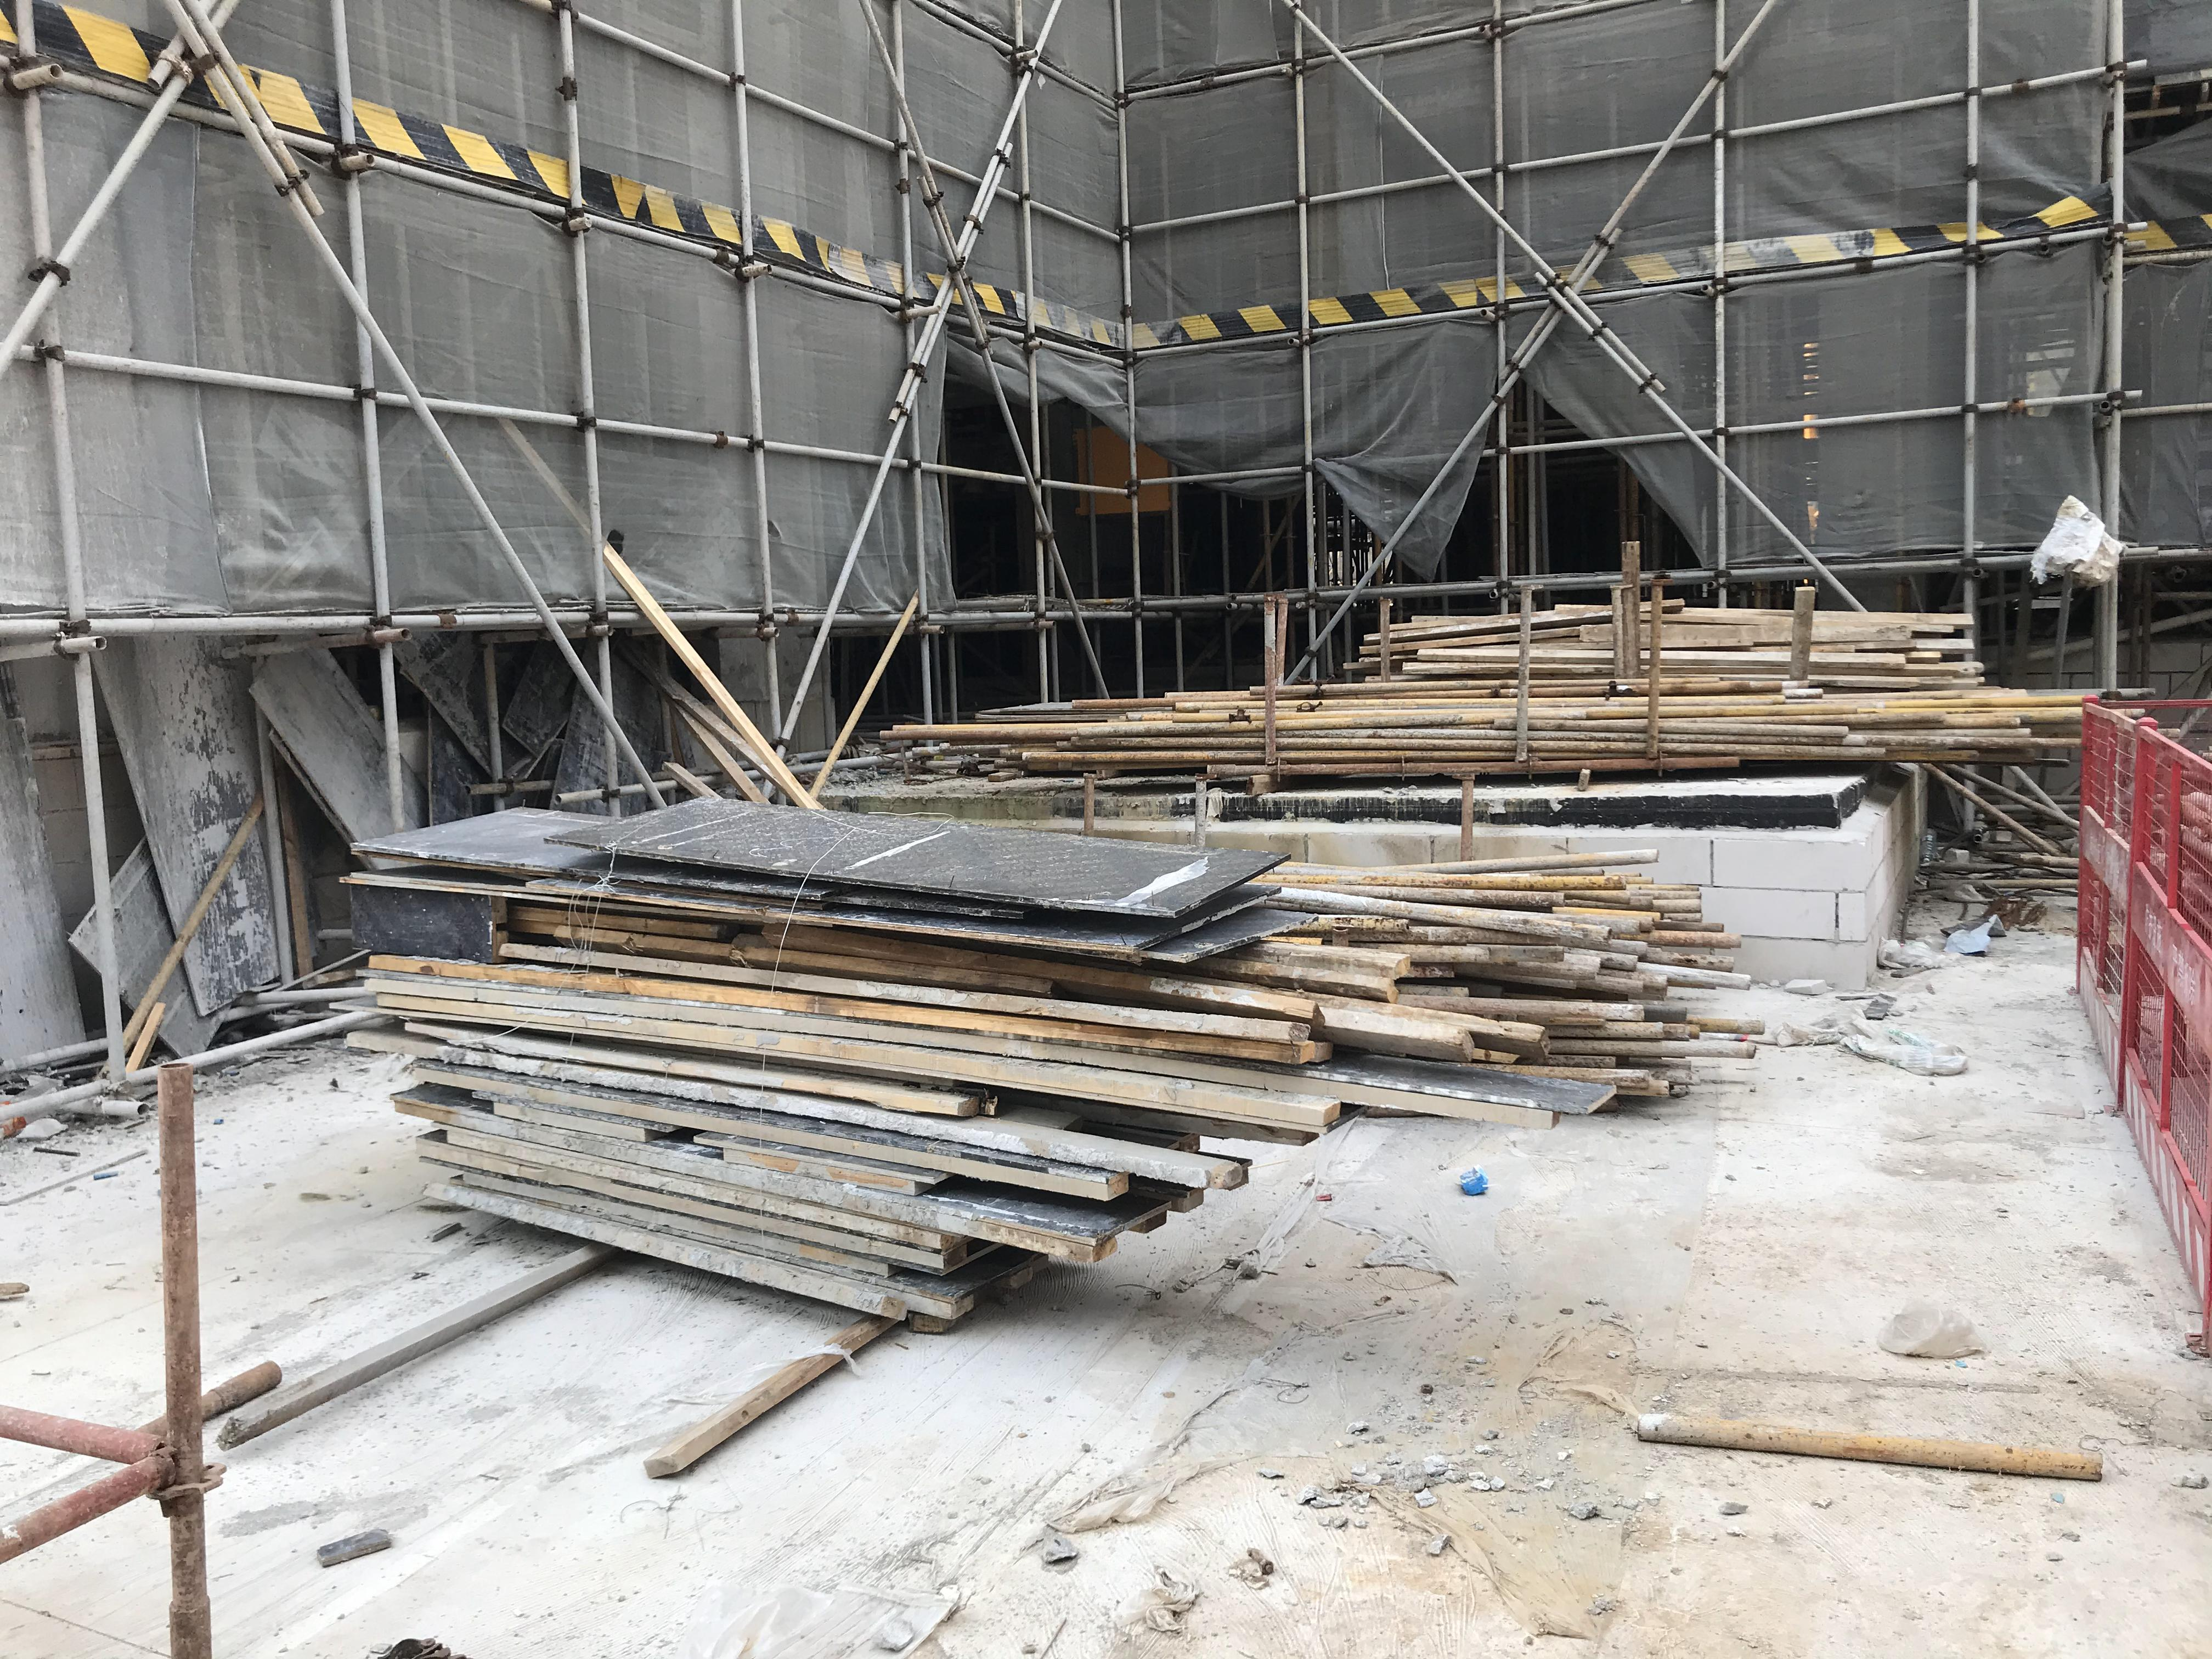board: (341, 744, 1369, 1351)
brick: (1136, 765, 1933, 951)
wood: (1226, 842, 1766, 1155)
